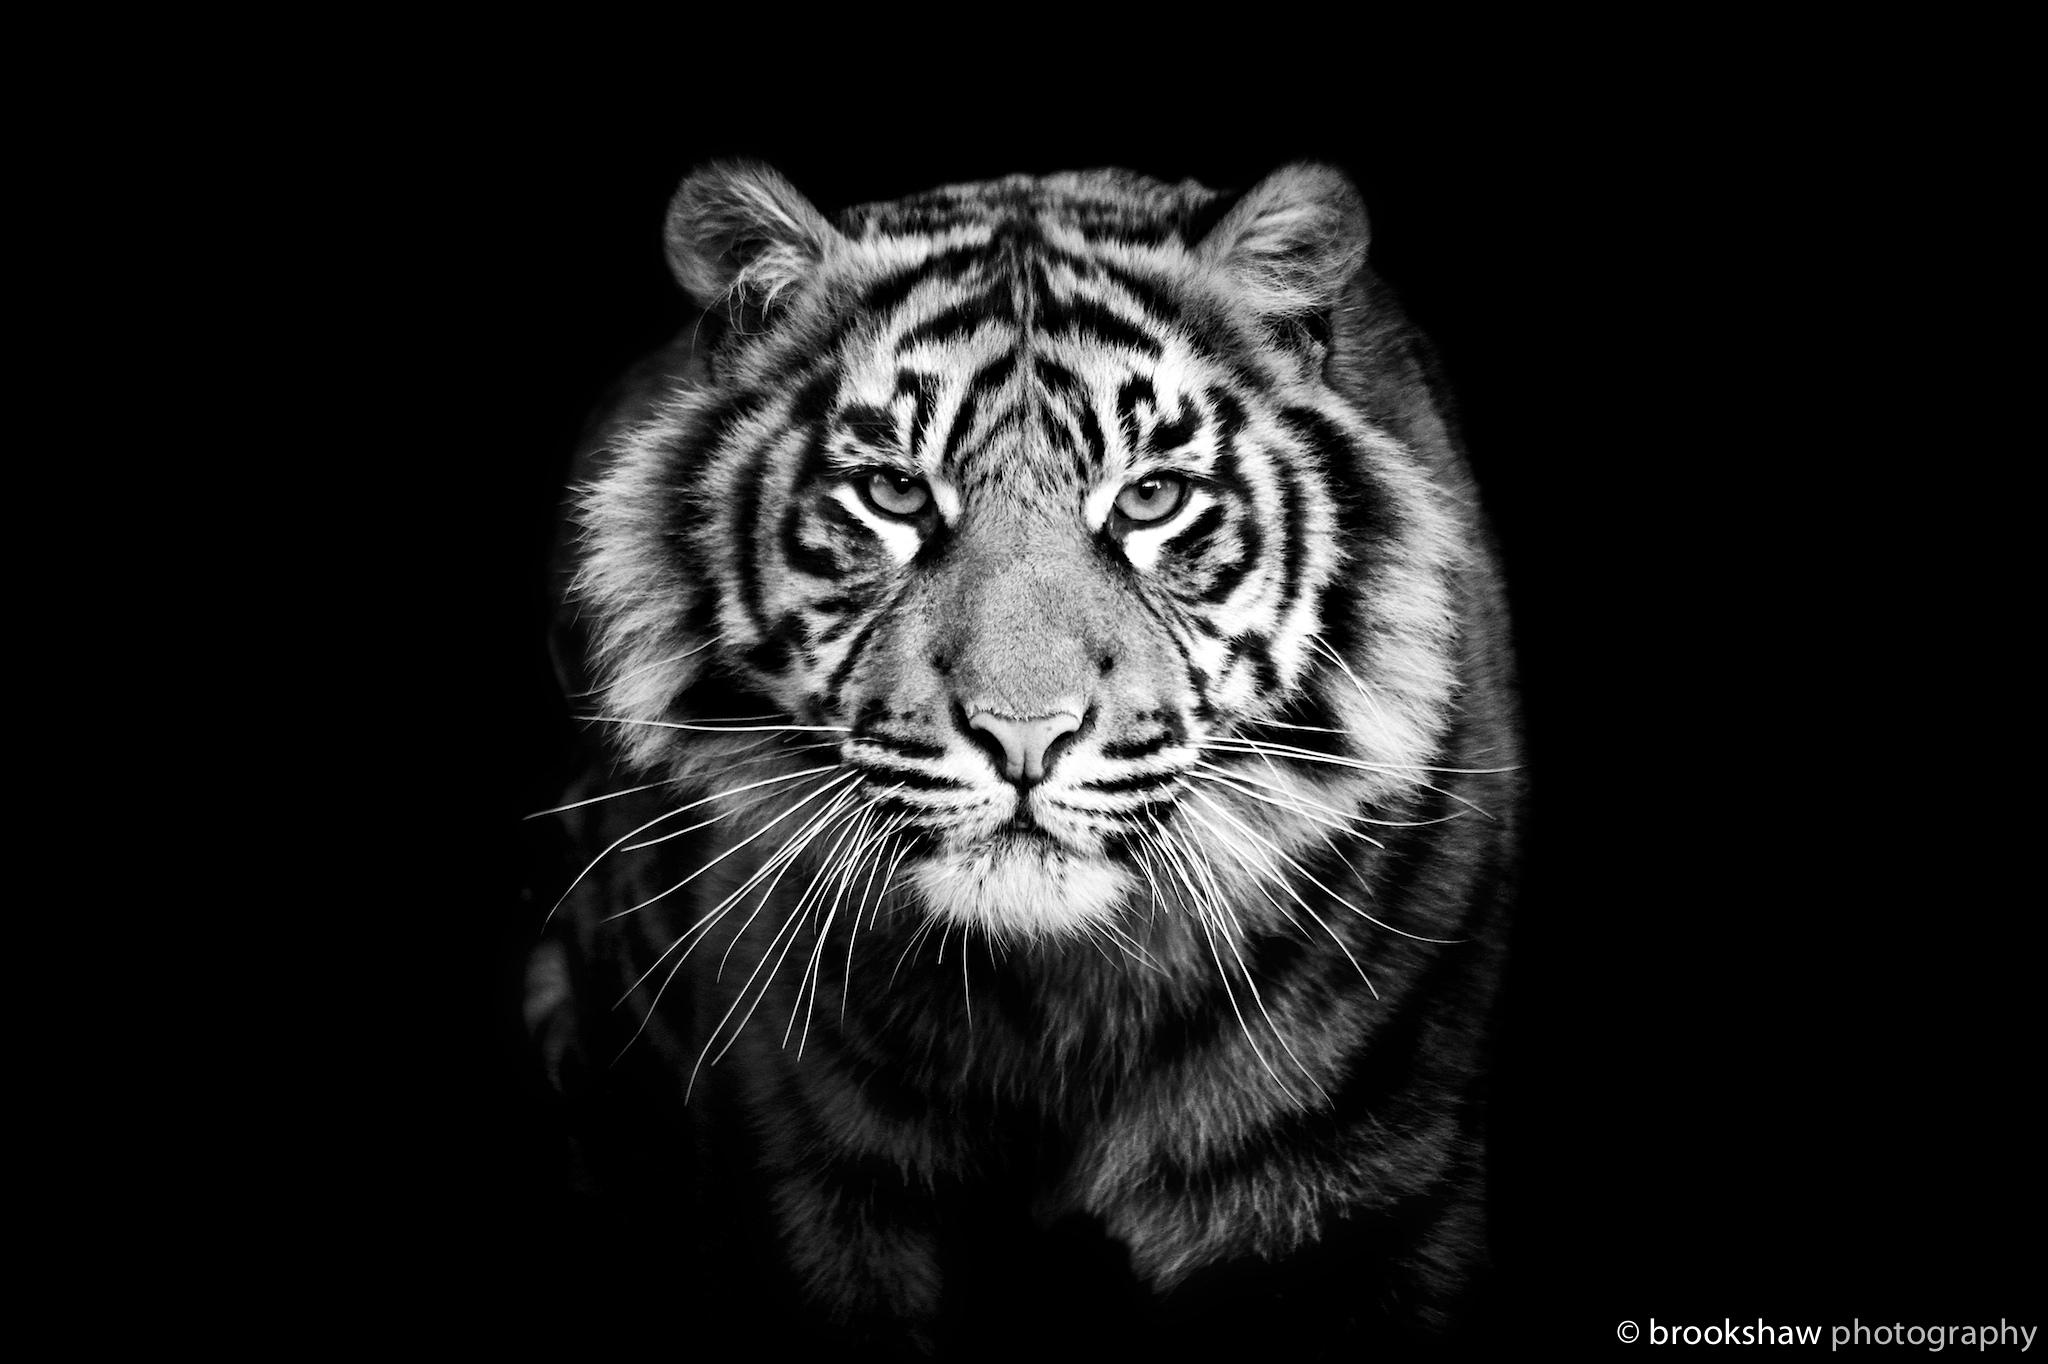tiger: (542, 142, 1610, 1286)
